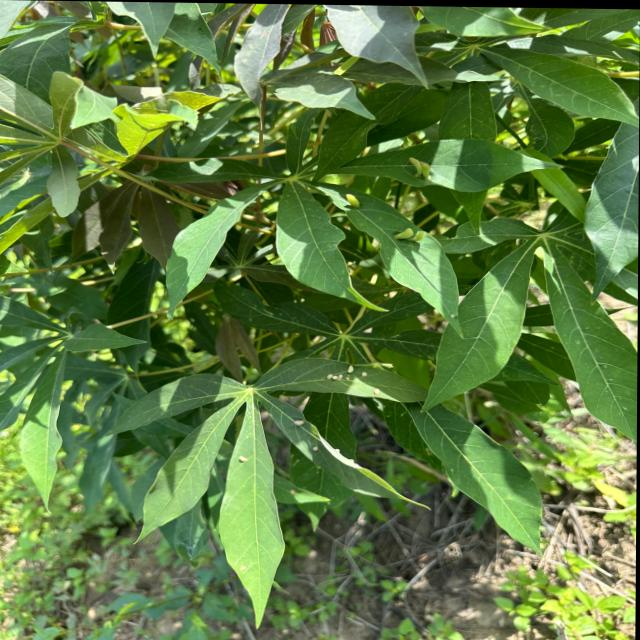Mosca: (383, 152, 436, 187), (386, 216, 442, 248), (320, 363, 386, 390), (324, 180, 362, 211), (239, 362, 263, 391), (236, 447, 258, 467)
